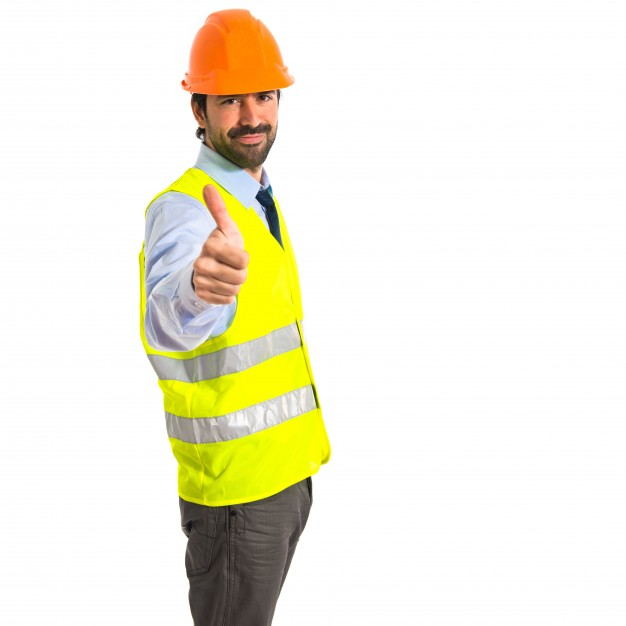thumbsup: (192, 183, 250, 304)
